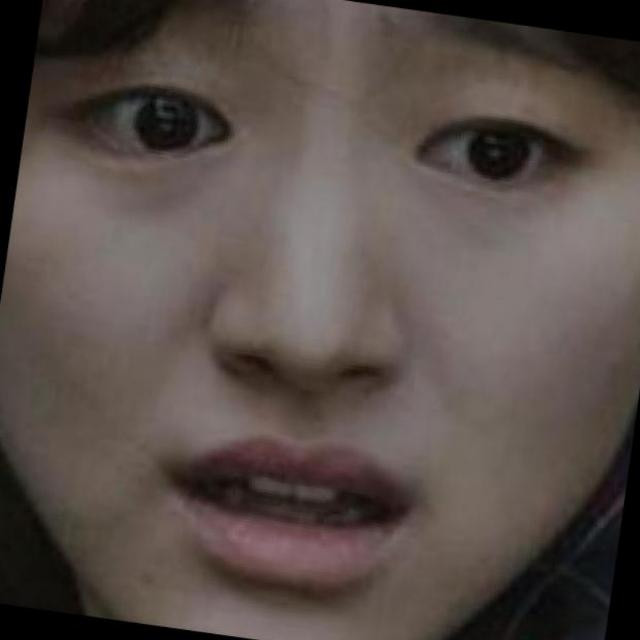Surprised: (40, 25, 618, 624)
